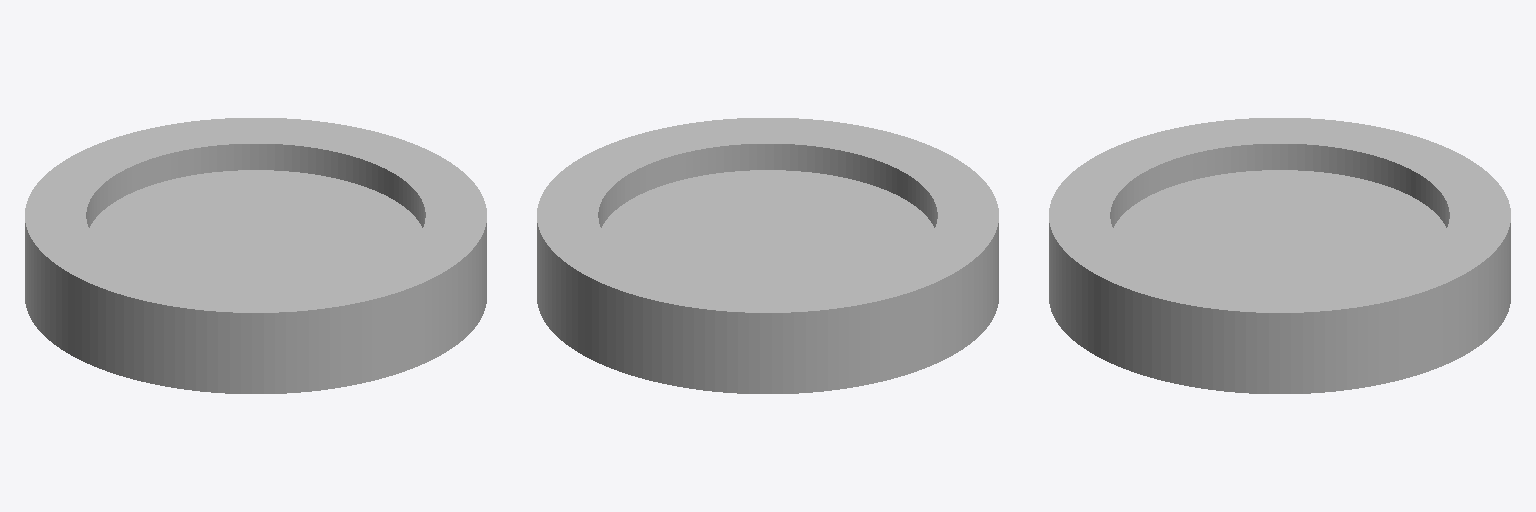
The model's file is CilindroEscenario.obj.
3 renders of one model, left to right at view 1: azimuth 30°, elevation 25°; view 2: azimuth 150°, elevation 25°; view 3: azimuth 270°, elevation 25°, orthographic.
Visible parts, largest first — view 1: Cylinder; view 2: Cylinder; view 3: Cylinder.
Part boxes in pixels (bbox=[...]): Cylinder: bbox=[25, 118, 486, 393]; Cylinder: bbox=[537, 118, 998, 393]; Cylinder: bbox=[1049, 118, 1510, 393].
Size of the model in its own units: 10.3 by 2 by 10.3.